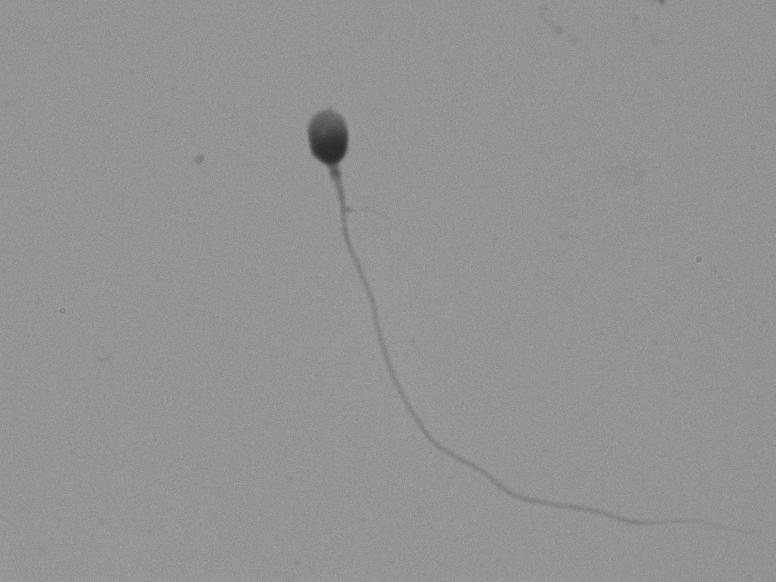Normal: (208, 100, 681, 516)
